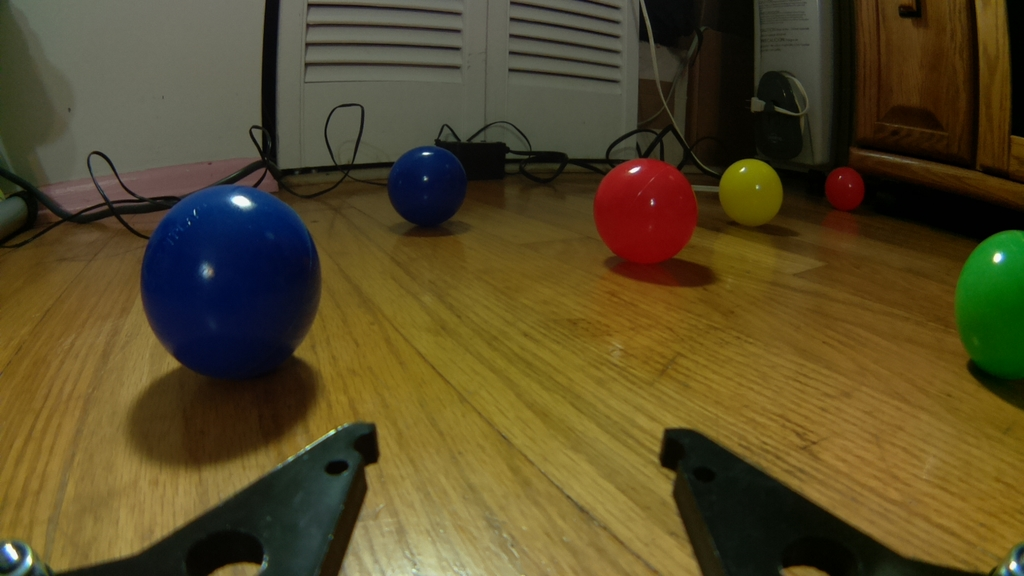ball: (952, 228, 1024, 380)
